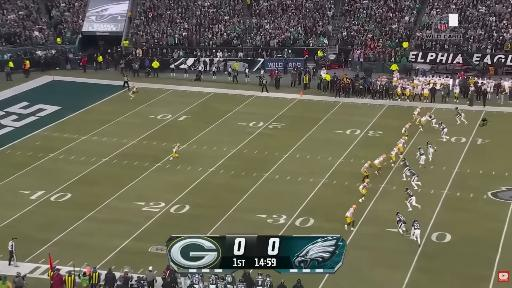Helmet: (406, 166, 412, 170), (401, 136, 406, 140), (427, 112, 431, 116), (439, 121, 443, 125), (407, 122, 411, 126), (402, 158, 406, 162), (365, 179, 369, 183), (395, 145, 399, 149), (382, 155, 386, 158), (454, 107, 458, 110), (413, 219, 417, 222), (396, 212, 400, 215), (177, 143, 181, 146), (367, 161, 371, 164), (352, 205, 356, 208), (404, 188, 408, 191), (418, 106, 422, 109), (418, 146, 421, 149), (427, 141, 431, 143), (134, 87, 137, 89)
Jersey: (255, 276, 265, 287), (407, 167, 417, 177), (191, 275, 201, 285), (225, 275, 234, 286), (209, 275, 218, 285), (404, 167, 415, 175), (405, 189, 414, 198), (346, 208, 354, 218), (397, 215, 406, 223), (362, 163, 370, 171), (264, 280, 273, 287), (403, 160, 410, 169), (439, 123, 446, 131), (397, 139, 405, 146), (453, 85, 460, 93), (173, 145, 181, 152), (217, 281, 226, 287), (391, 148, 398, 155), (375, 157, 382, 164), (413, 109, 420, 116), (403, 125, 409, 133), (360, 183, 368, 189), (418, 148, 424, 156), (456, 108, 462, 115), (412, 223, 419, 229), (422, 115, 429, 121), (427, 142, 433, 149), (236, 283, 246, 287), (429, 114, 435, 120), (130, 90, 134, 95)
Player: (403, 167, 421, 189), (405, 188, 420, 210), (359, 178, 370, 203), (345, 205, 356, 230), (396, 212, 407, 235), (374, 155, 386, 174), (412, 219, 420, 246), (455, 107, 467, 124), (439, 122, 449, 141), (362, 161, 371, 181), (427, 142, 436, 161), (420, 113, 430, 130), (170, 144, 180, 161), (208, 274, 219, 288), (402, 123, 411, 140), (390, 147, 398, 166), (397, 137, 405, 155), (191, 274, 202, 287), (417, 147, 425, 164), (255, 272, 264, 287), (225, 274, 235, 287), (413, 107, 421, 123), (429, 113, 437, 128), (264, 274, 273, 287), (217, 276, 227, 287), (129, 87, 138, 99), (236, 278, 246, 287), (402, 158, 410, 169), (454, 84, 459, 101)
